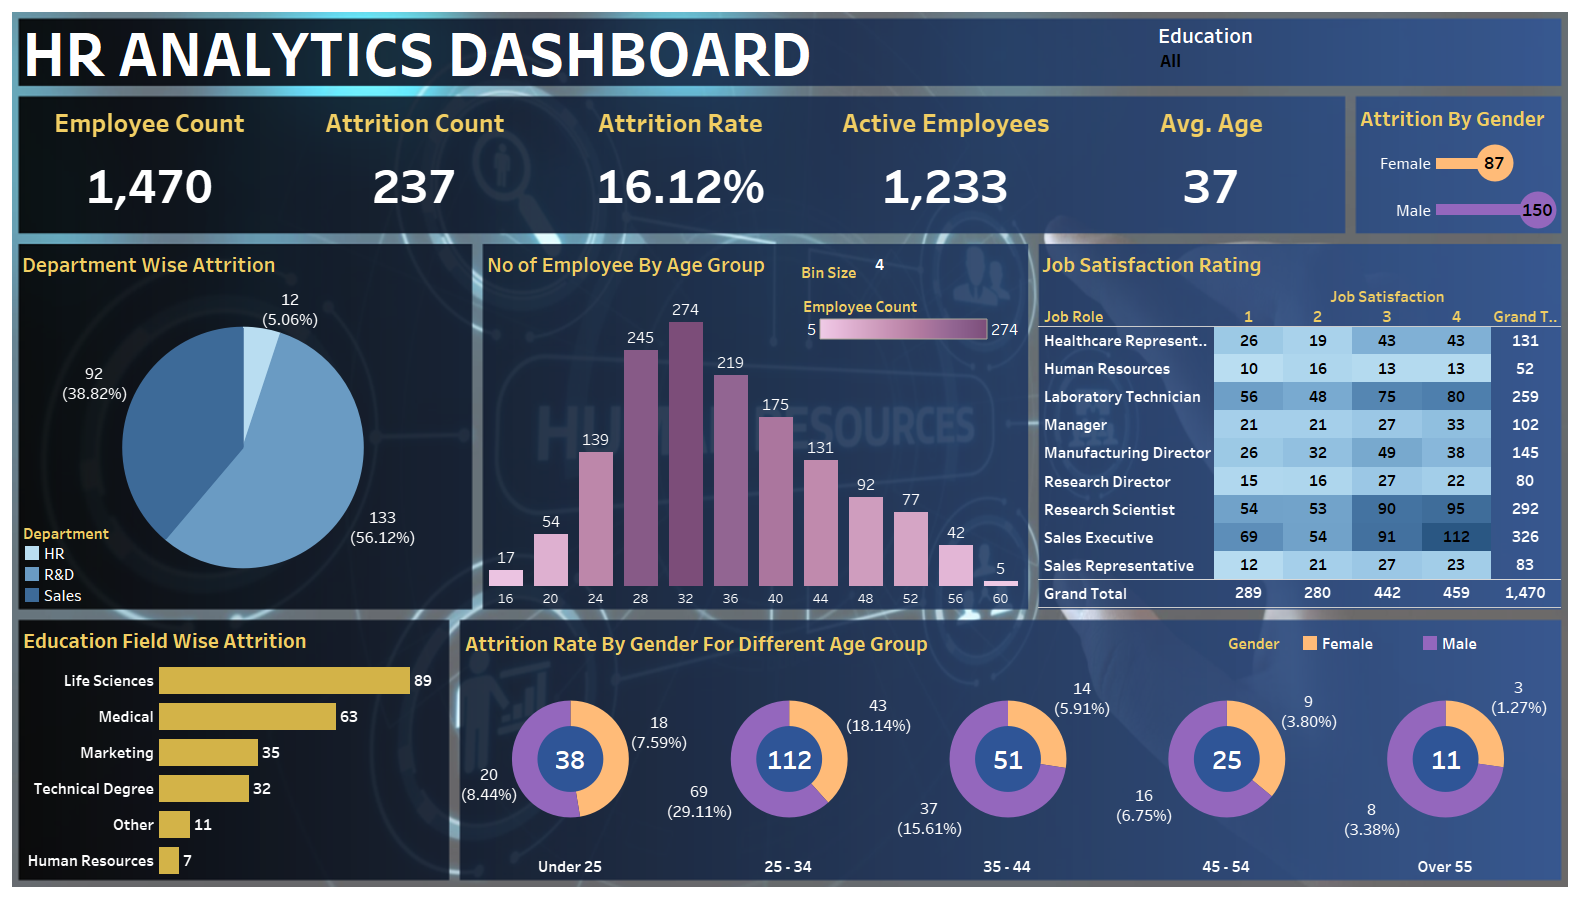

What the dashboard file says about the page in this screenshot:
{"tool":"tableau","page":{"name":"HR Analytics Dashboard","canvas":[1580,900],"ordinal":0},"visuals":[{"type":"image","param":"C:/Users/navee/OneDrive/Documents/Jyothi/Teableau/HR Analytics Dsahboard/HR back","box":[8,8,1564,884]},{"type":"text","box":[19,18,1048,67]},{"type":"filter","title":"Department Wise Attrition","param":"[federated.1x77zqn0c2k4l01e2szso1nsb3qc].[none:Education:nk]","box":[1158,20,160,166]},{"type":"worksheet","title":"Attrition By Gender","mark":"Automatic","rows":["Gender"],"cols":["Calculation_1761751929381916672","Calculation_1761751929381916672"],"box":[1356,98,206,135]},{"type":"worksheet","title":"KPI","mark":"Automatic","box":[17,99,1327,131]},{"type":"worksheet","title":"Department Wise Attrition","mark":"Pie","box":[18,244,450,364]},{"type":"worksheet","title":"No of Employee By Age Group","mark":"Automatic","rows":["Employee Count"],"cols":["Age (bin)"],"box":[483,244,541,364]},{"type":"worksheet","title":"Job Satisfaction Rating","mark":"Square","rows":["Job Role"],"cols":["Job Satisfaction"],"box":[1038,244,523,364]},{"type":"parameter","param":"[Parameters].[Parameter 1]","box":[801,254,222,37]},{"type":"legend","title":"No of Employee By Age Group","param":"[federated.1x77zqn0c2k4l01e2szso1nsb3qc].[sum:Employee Count:qk]","box":[803,292,220,63]},{"type":"legend","title":"Department Wise Attrition","param":"[federated.1x77zqn0c2k4l01e2szso1nsb3qc].[none:Department:nk]","box":[22,521,112,85]},{"type":"worksheet","title":"Education Field Wise Attrition","mark":"Automatic","rows":["Education Field"],"cols":["Calculation_1761751929381916672"],"box":[19,620,430,258]},{"type":"worksheet","title":"Attrition Rate By Gender For Different Age Group","mark":"Pie","rows":["Calculation_1761751929414639620","Calculation_1761751929414639620"],"cols":["CF_age band"],"box":[461,623,1094,255]},{"type":"legend","title":"Attrition Rate By Gender For Different Age Group","param":"[federated.1x77zqn0c2k4l01e2szso1nsb3qc].[none:Gender:nk]","box":[1228,633,327,37]}]}

Visuals, with their boxes in screenshot pixels (x1, y1, x2, y2), scaled from the page's 1580x900 canvas onto the 1580x900 screenshot:
image: locate(8, 8, 1572, 892)
text: locate(19, 18, 1067, 85)
"Department Wise Attrition" filter: locate(1158, 20, 1318, 186)
"Attrition By Gender" worksheet: locate(1356, 98, 1562, 233)
"KPI" worksheet: locate(17, 99, 1344, 230)
"Department Wise Attrition" worksheet (Pie marks): locate(18, 244, 468, 608)
"No of Employee By Age Group" worksheet: locate(483, 244, 1024, 608)
"Job Satisfaction Rating" worksheet (Square marks): locate(1038, 244, 1561, 608)
parameter: locate(801, 254, 1023, 291)
"No of Employee By Age Group" legend: locate(803, 292, 1023, 355)
"Department Wise Attrition" legend: locate(22, 521, 134, 606)
"Education Field Wise Attrition" worksheet: locate(19, 620, 449, 878)
"Attrition Rate By Gender For Different Age Group" worksheet (Pie marks): locate(461, 623, 1555, 878)
"Attrition Rate By Gender For Different Age Group" legend: locate(1228, 633, 1555, 670)
